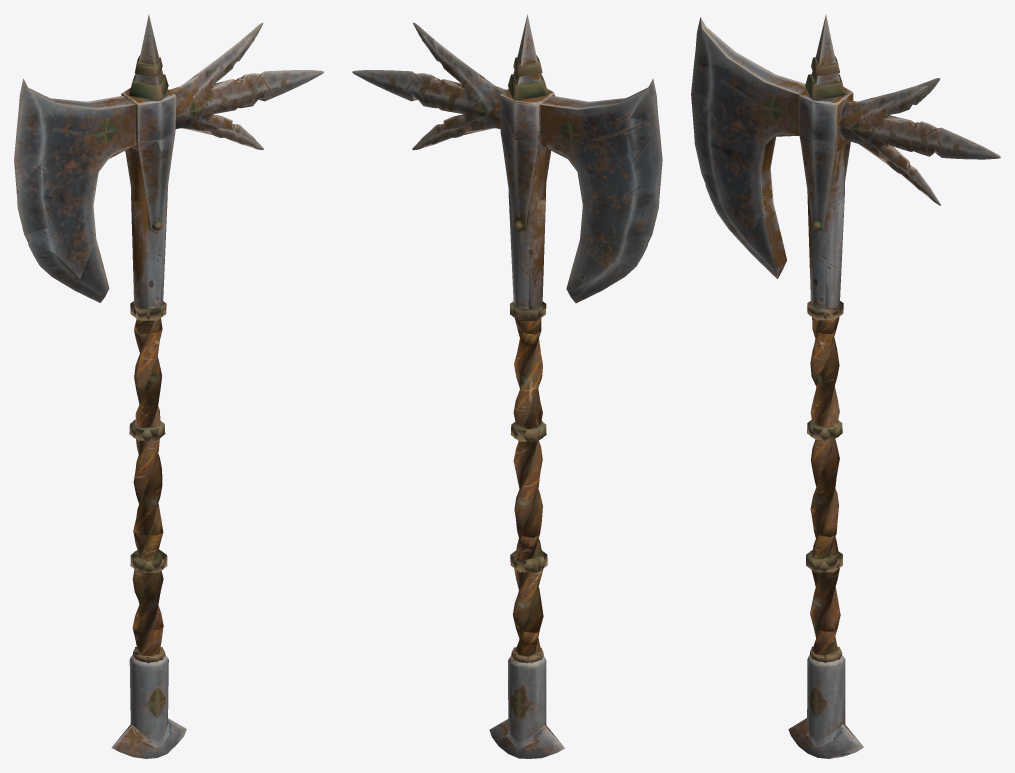
3 views of the same model, side by side, from view 1: azimuth 30°, elevation 25°; view 2: azimuth 150°, elevation 25°; view 3: azimuth 330°, elevation 25° (orthographic).
Visible parts, largest first — view 1: SM_GreatAxe_Skeleton_2H_01_LOD0; view 2: SM_GreatAxe_Skeleton_2H_01_LOD0; view 3: SM_GreatAxe_Skeleton_2H_01_LOD0.
Part boxes in pixels (x1,y1,x2,y2): SM_GreatAxe_Skeleton_2H_01_LOD0: (14, 14, 323, 758); SM_GreatAxe_Skeleton_2H_01_LOD0: (352, 14, 662, 758); SM_GreatAxe_Skeleton_2H_01_LOD0: (691, 15, 1000, 758).
Bounding box in the file's own units: 0.7289 × 1.66 × 0.1082.
Materials: 1 (1 with a texture image).
